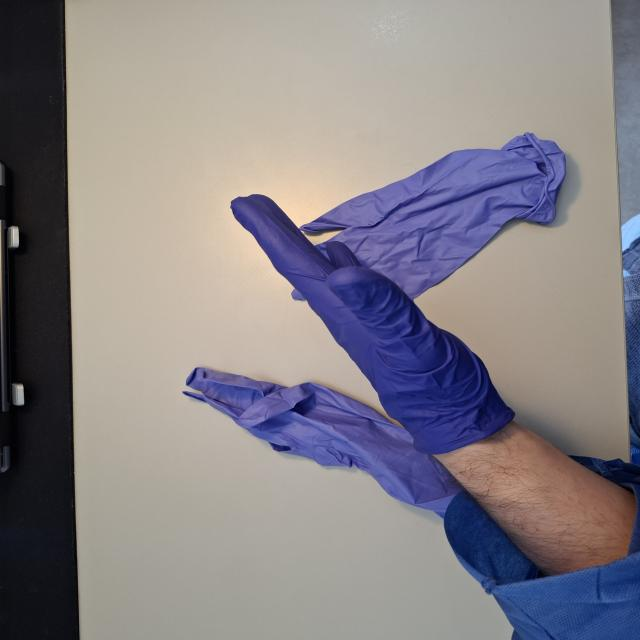glove_on: (228, 192, 510, 454)
